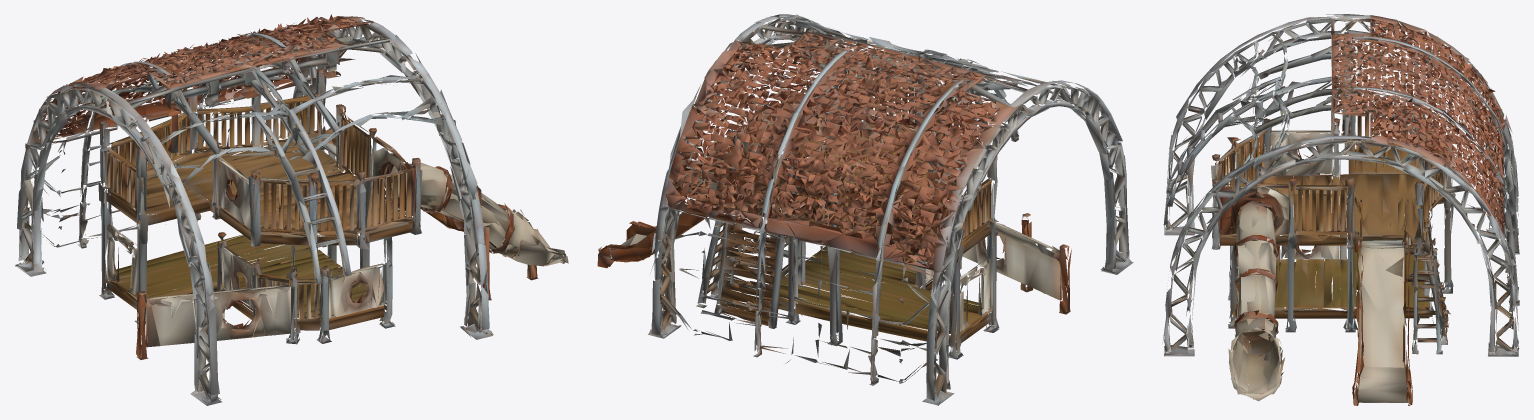
The model's file is little_hangar.glb.
3 views of the same model, side by side, from view 1: azimuth 30°, elevation 25°; view 2: azimuth 150°, elevation 25°; view 3: azimuth 270°, elevation 25° (orthographic). The views are drawn at different scales.
Parts seen in each view (by area): view 1: LO.001; view 2: LO.001; view 3: LO.001.
Boxes of the visible parts, left/top/right/bottom form: LO.001: left=15, top=14, right=568, bottom=405; LO.001: left=597, top=14, right=1133, bottom=405; LO.001: left=1162, top=14, right=1519, bottom=405.
Size of the model in its own units: 9.77 by 5.67 by 8.02.
1 material, 1 textured.
